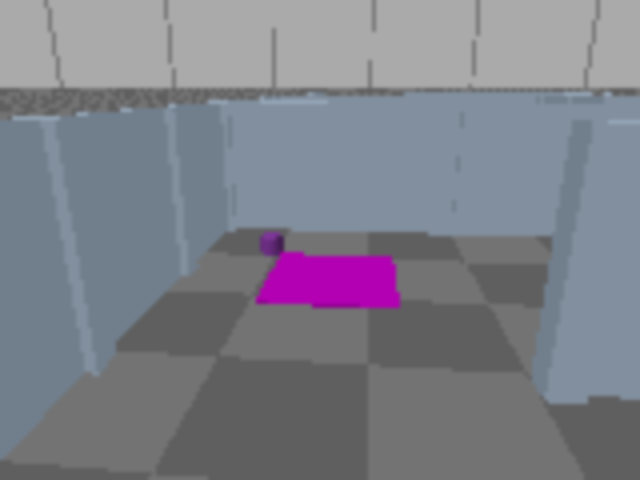goal_zone: (255, 253, 400, 310)
puck: (262, 233, 282, 255)
